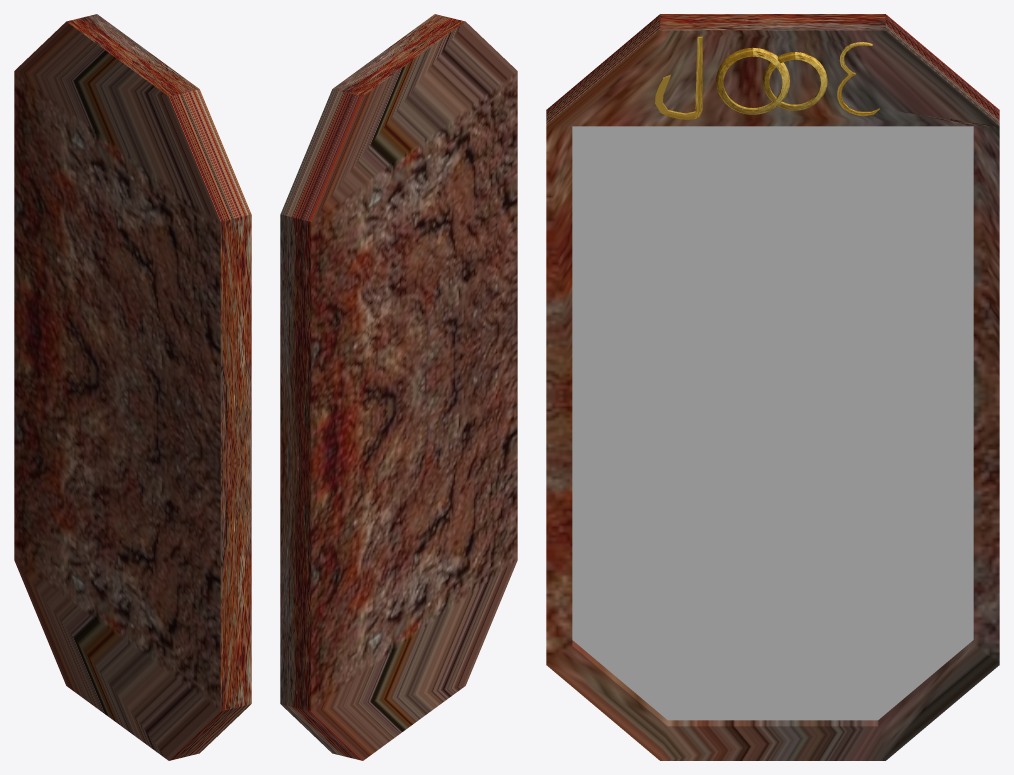
Rendered from mirror.glb.
3 renders of one model, left to right at view 1: azimuth 30°, elevation 25°; view 2: azimuth 150°, elevation 25°; view 3: azimuth 270°, elevation 25°, orthographic. The views are drawn at different scales.
Visible parts, largest first — view 1: Frame; view 2: Frame; view 3: Mirror, Frame, BigRIng, SmallRing, James.
Boxes of the visible parts, x1,y1,x2,y2 form: Frame: (14, 14, 251, 760); Frame: (280, 14, 517, 760); Mirror: (572, 126, 973, 720); Frame: (546, 14, 999, 760); BigRIng: (716, 47, 789, 114); SmallRing: (763, 52, 827, 110); James: (655, 36, 702, 119).
Size of the model in its own units: 0.1349 by 2.43 by 1.37.
3 materials, 2 textured.
